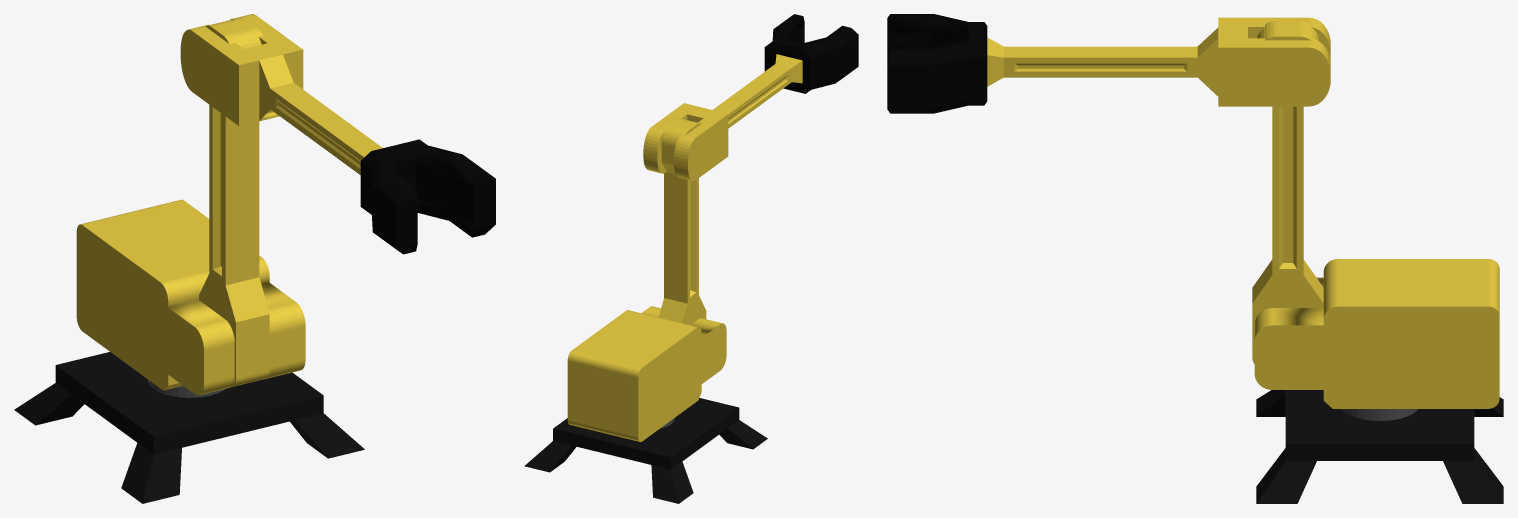
The model's file is Handler.fbx.
The picture shows the model from 3 angles, left to right: view 1: azimuth 30°, elevation 25°; view 2: azimuth 150°, elevation 25°; view 3: azimuth 270°, elevation 25°; orthographic projection. The views are drawn at different scales.
Parts seen in each view (by area): view 1: Body, Platform, Arm1, Arm2, Catch; view 2: Body, Platform, Arm2, Arm1, Catch; view 3: Body, Arm2, Platform, Catch, Arm1, Axis.
Boxes of the visible parts, x1,y1,x2,y2 form: Body: (76, 199, 305, 395); Platform: (14, 352, 364, 503); Arm1: (199, 17, 269, 386); Arm2: (180, 14, 382, 174); Catch: (360, 139, 495, 254); Body: (567, 306, 726, 441); Platform: (524, 398, 767, 503); Arm2: (643, 54, 802, 180); Arm1: (658, 117, 706, 325); Catch: (764, 14, 858, 93); Body: (1254, 259, 1499, 408); Arm2: (987, 17, 1330, 106); Platform: (1256, 390, 1503, 503); Catch: (887, 14, 987, 113); Arm1: (1252, 20, 1323, 363); Axis: (1342, 409, 1417, 420).
Size of the model in its own units: 262 by 493 by 653.
